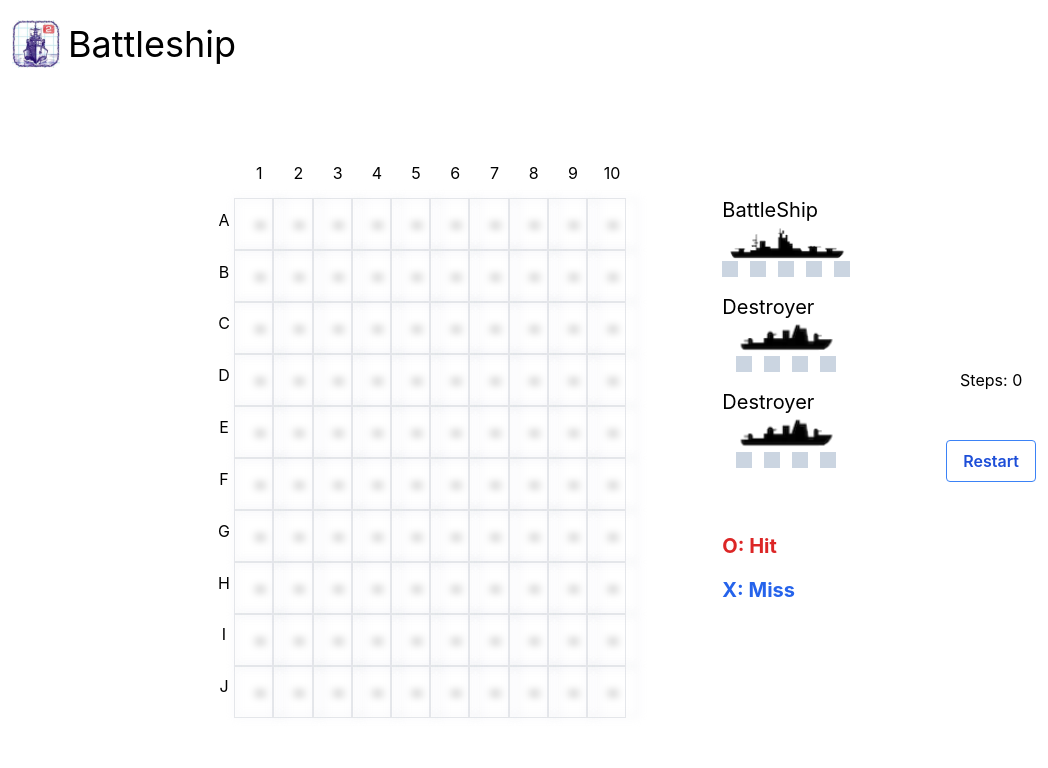
Test: BattleContainer Component › verifies that targeting a square results in the correct outcome (O or X)
The image size is (1048, 768).
# click a grid cell and check if it contains O or X
Click the 1st cell "~".
click(254, 224)  # box [234,198,273,250]
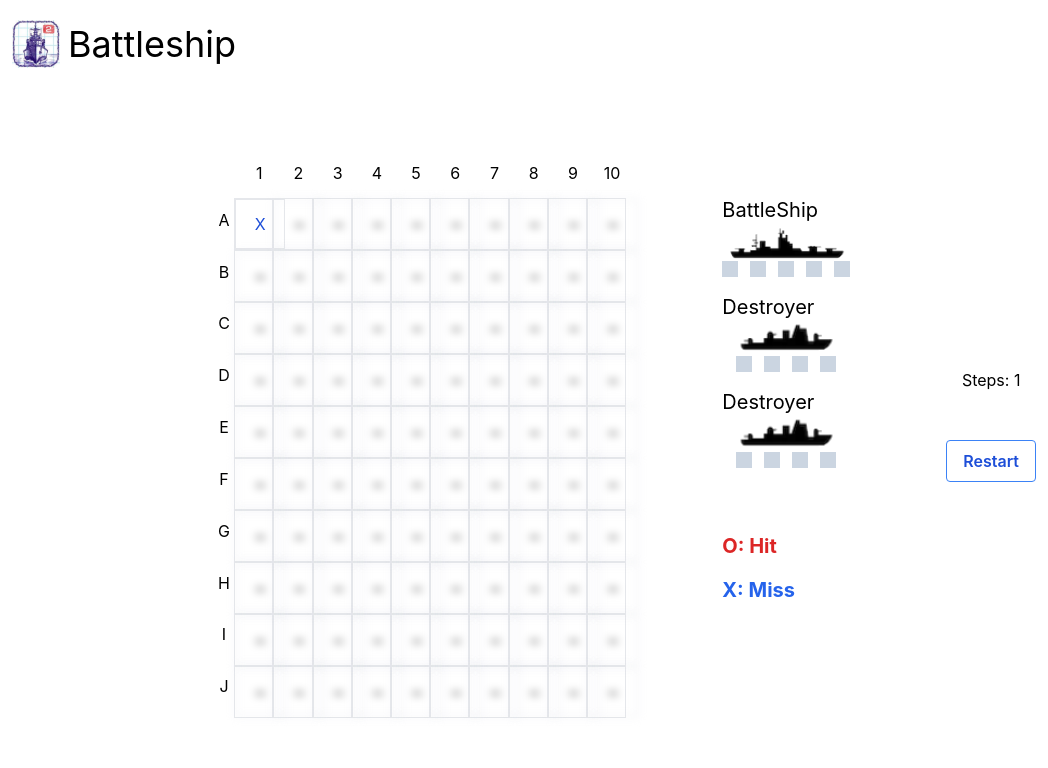
Expected: the cell "X" is shown, [234,198,273,250]
